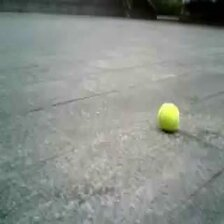tennis: (158, 103, 178, 130)
